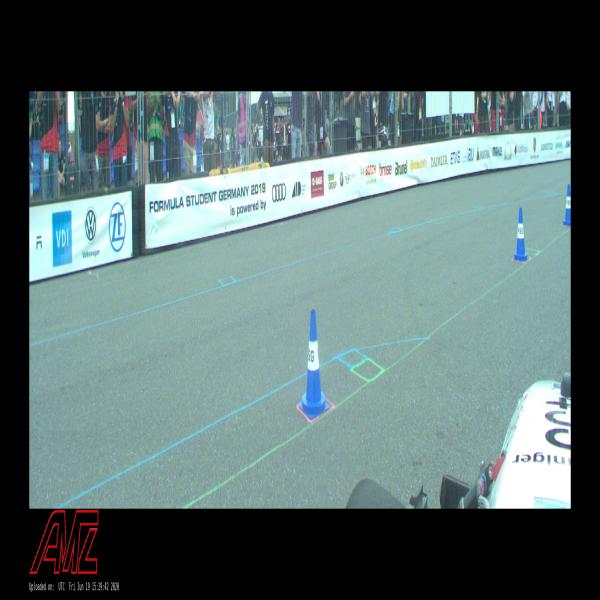blue_cone: (298, 309, 330, 419), (513, 208, 529, 262), (562, 185, 570, 225)
